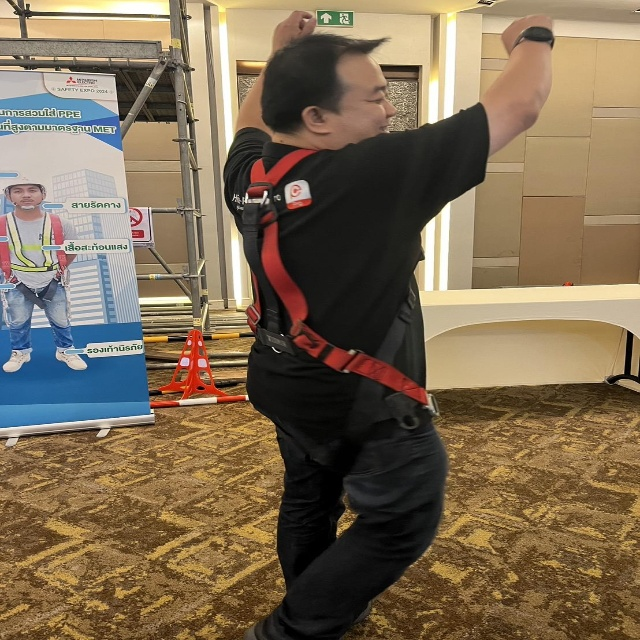Arnes_seguridad: (220, 140, 443, 425)
